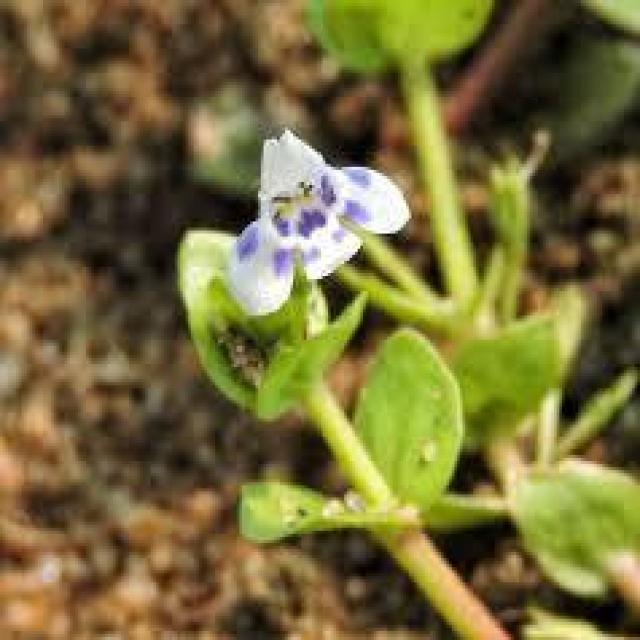organic waste: (202, 116, 422, 316)
